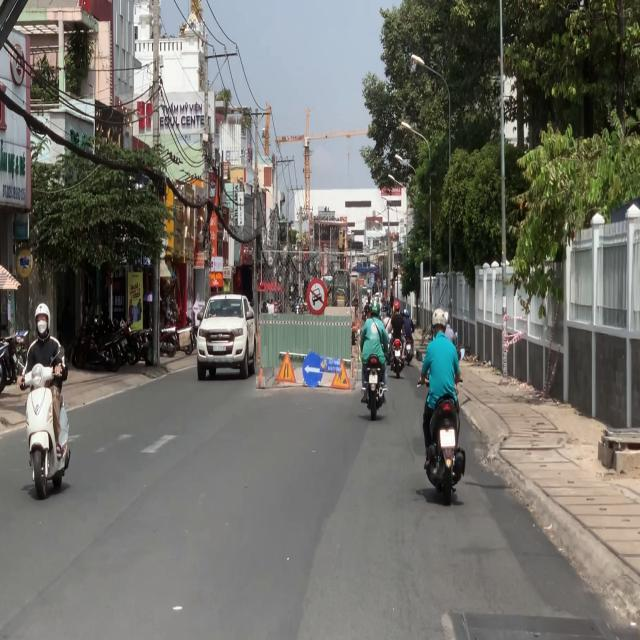Cam con lai: (306, 278, 328, 316)
Nguy hiem: (276, 351, 298, 384), (331, 358, 351, 391)
Re trai: (302, 350, 323, 388)
